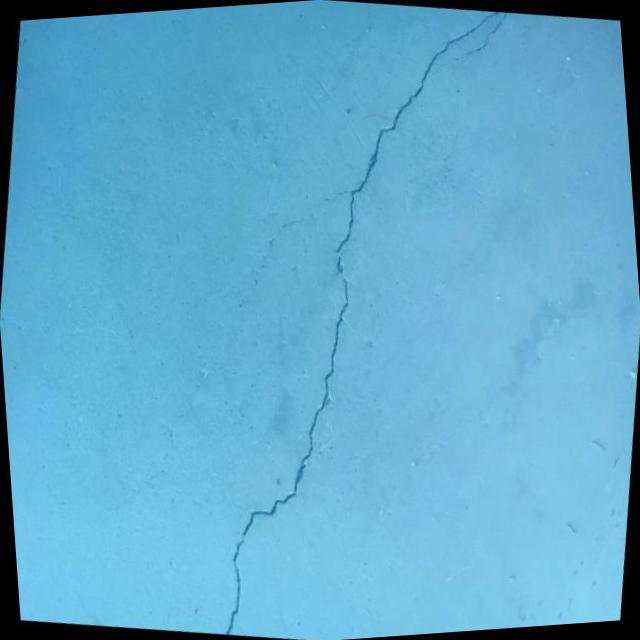crack: (179, 0, 550, 640), (256, 220, 285, 271)
